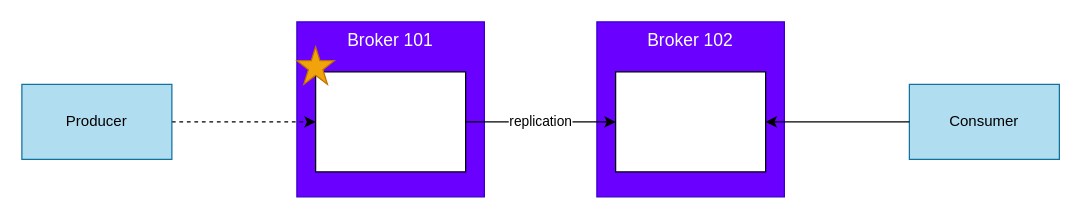
This 1081x219 diagram has some shape labels left out. The box of each missing label's shape, as (x1, y1, x2, y2) in pixels:
Partition 0 Topic-A (ISR): (614, 71, 766, 172)
Partition 0 Topic-A (Leader): (314, 71, 466, 172)
